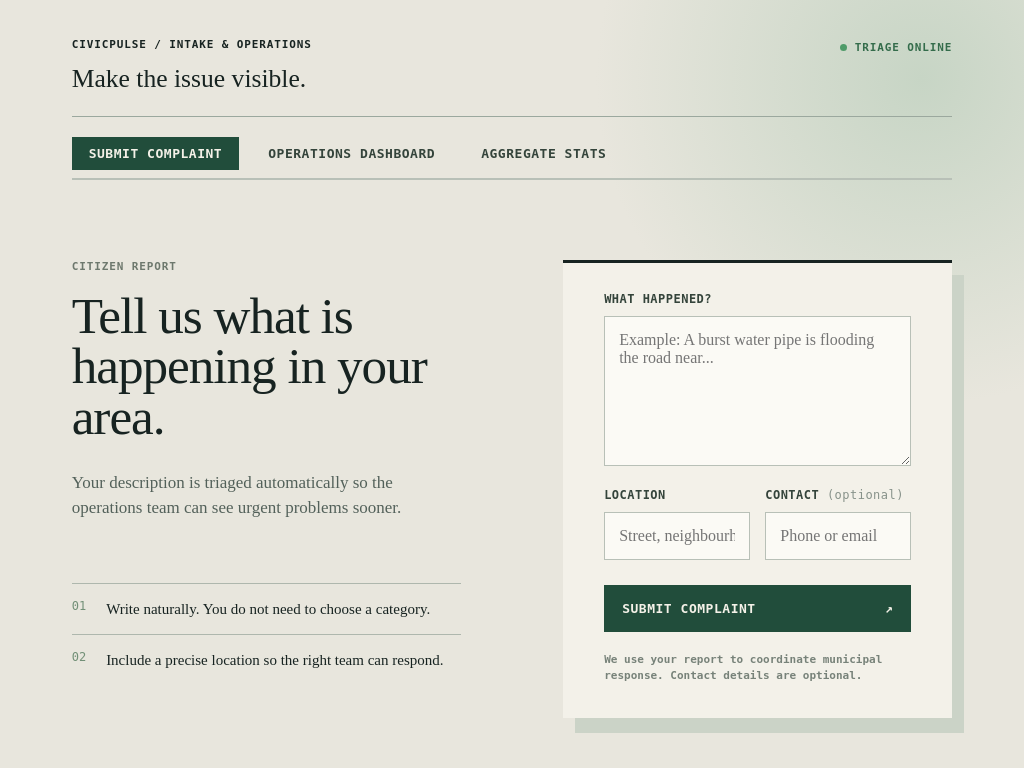
Test: Submit view › shows client validation for a short complaint
Step 1. Type "Street 1" into the field labelled "Location" → x=677, y=536, box [604,512,750,560]
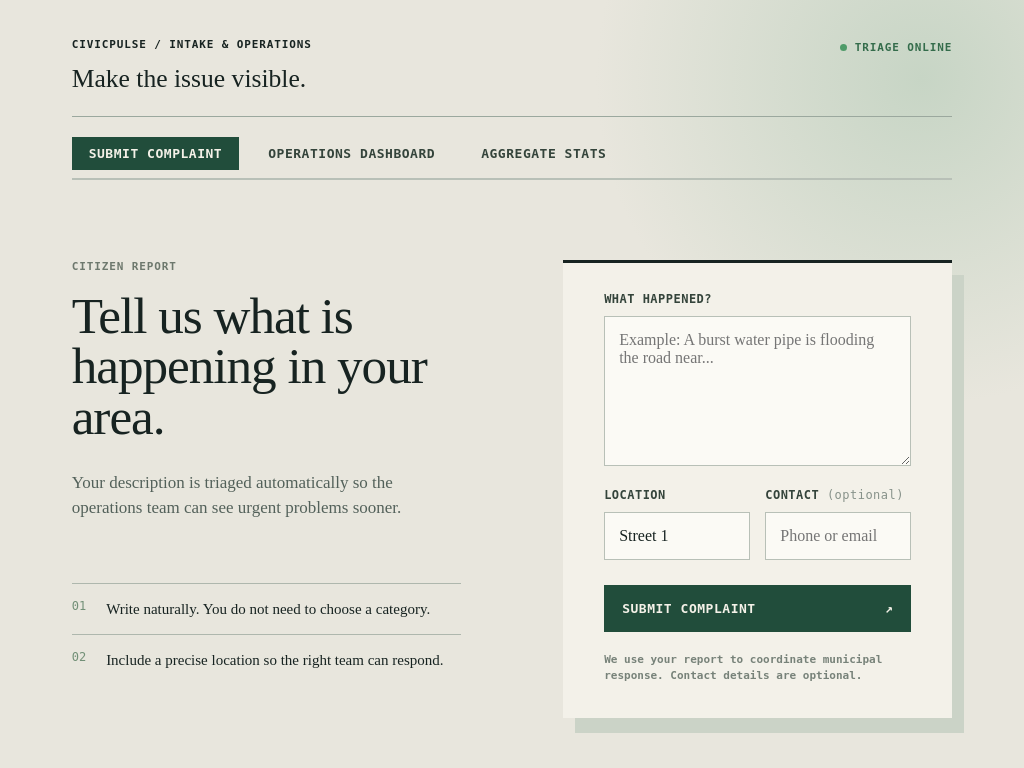
Step 2. Submit the form, box [563,260,952,718]
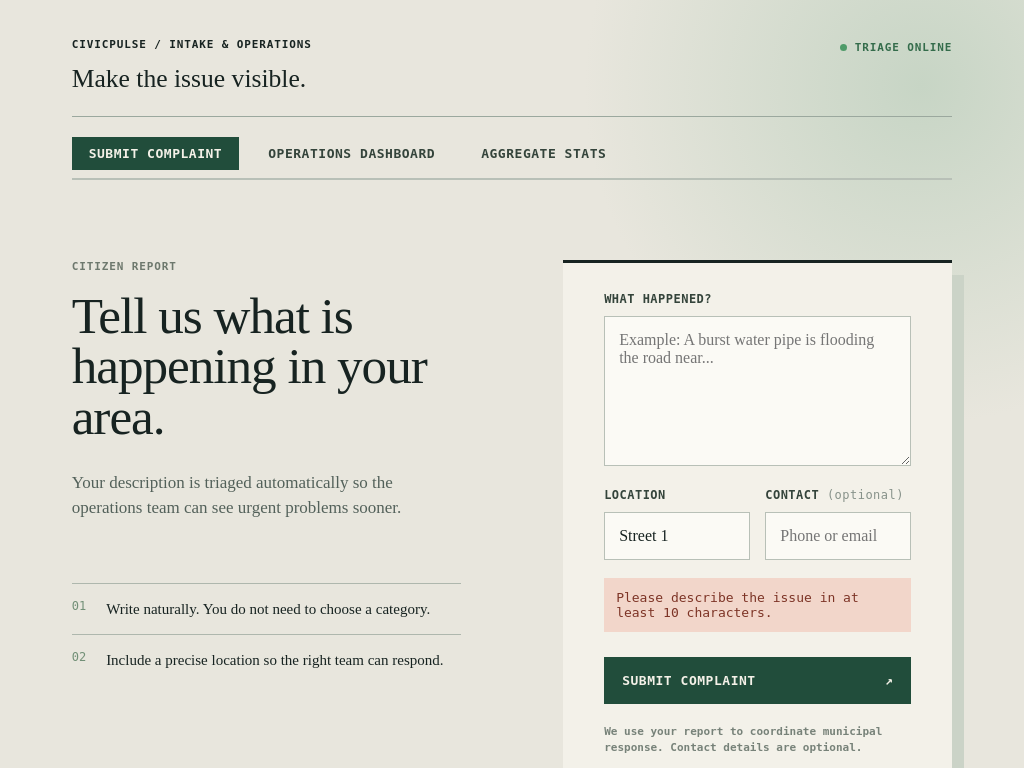
Result: the message shows "at least 10 characters" at [616,590,859,620]
